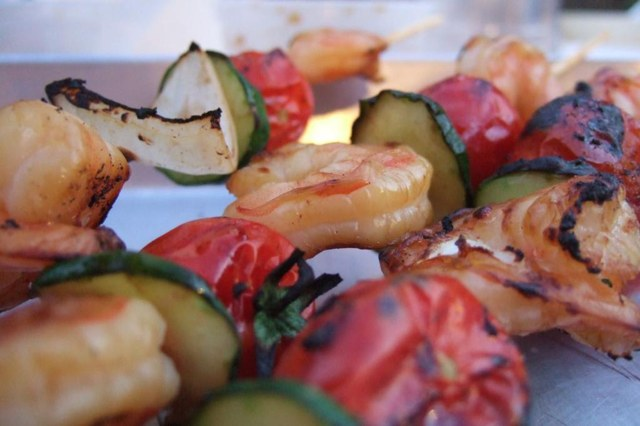tomato: (270, 270, 533, 424), (139, 214, 316, 374), (524, 90, 639, 221), (416, 73, 523, 185), (229, 47, 313, 153)
